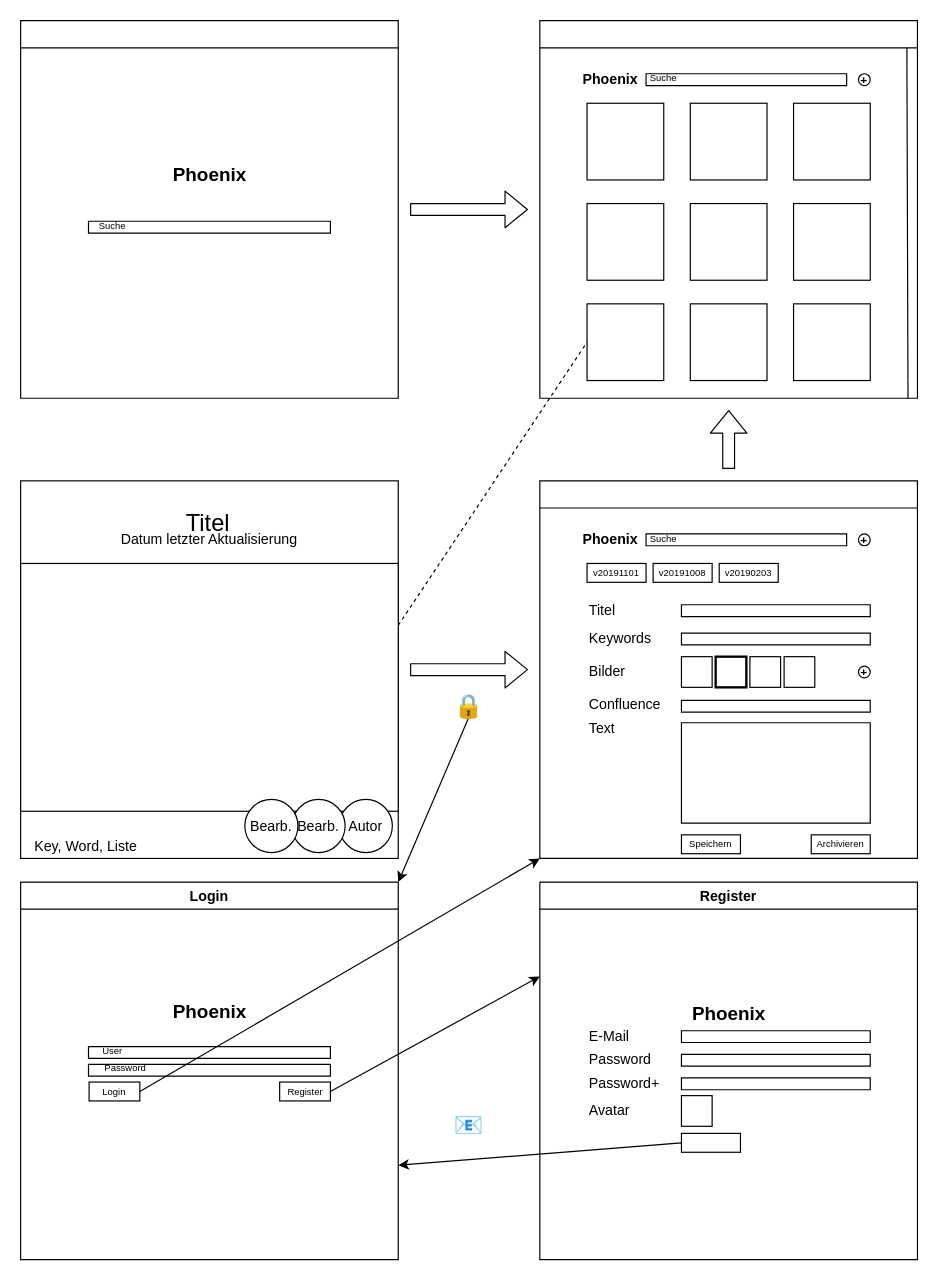
This 938x1280 diagram has some shape labels left out. Each missing label, with the box of its shape:
Bild oder Text-Ausschnitt: (19, 562, 398, 811)
Detail: (539, 480, 917, 858)
Home: (19, 19, 398, 398)
Registrieren: (680, 1132, 740, 1152)
Result: (539, 19, 917, 398)
